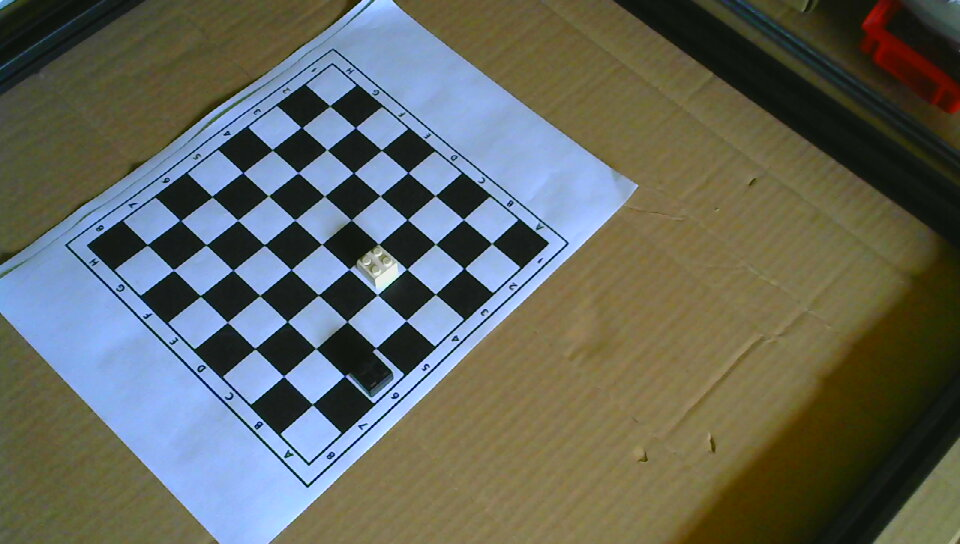bp: (347, 350, 395, 397)
wp: (354, 242, 403, 288)
